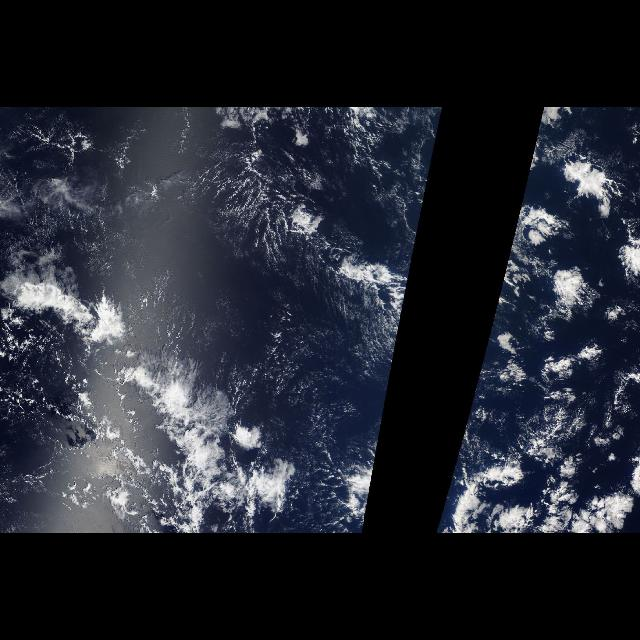Fish: (7, 268, 299, 520)
Flower: (458, 126, 640, 534)
